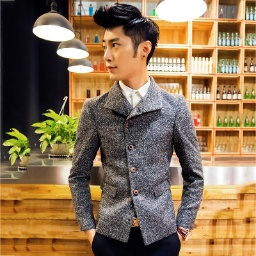face: (95, 1, 160, 80)
